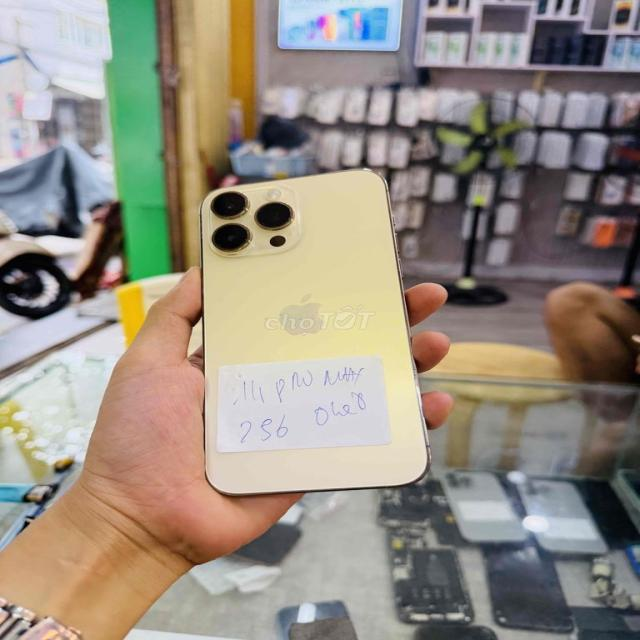gen_14: (180, 166, 438, 498)
